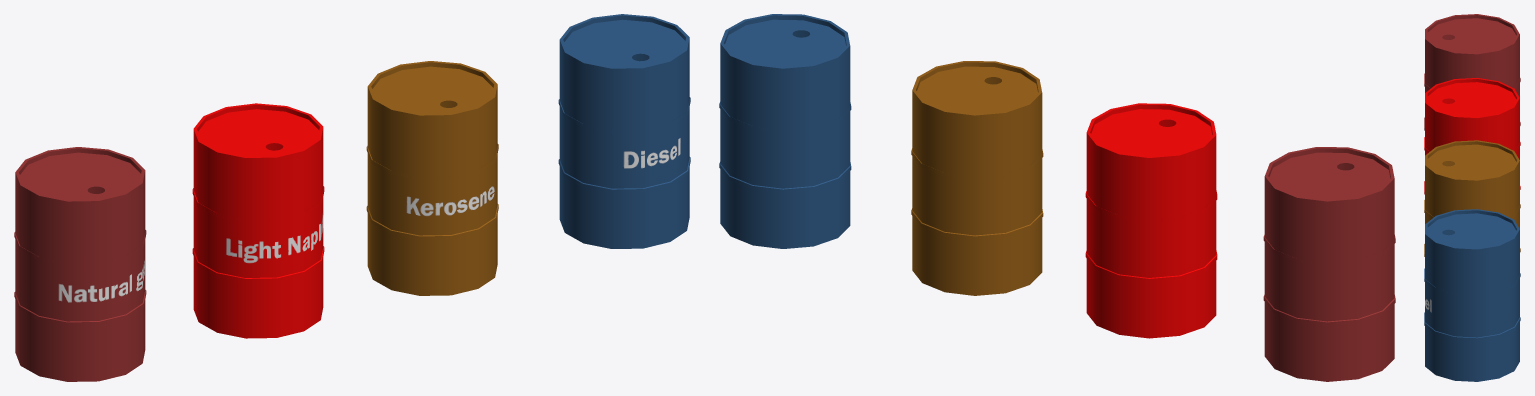
File: gases.fbx
3 views of the same model, side by side, from view 1: azimuth 30°, elevation 25°; view 2: azimuth 150°, elevation 25°; view 3: azimuth 270°, elevation 25° (orthographic). The views are drawn at different scales.
Visible parts, largest first — view 1: light_naptha, natural_gas, diesel, kerosene; view 2: light_naptha, natural_gas, diesel, kerosene; view 3: diesel, kerosene, natural_gas, light_naptha.
Boxes of the visible parts, x1,y1,x2,y2 form: light_naptha: [192, 103, 324, 338]; natural_gas: [14, 147, 146, 381]; diesel: [558, 14, 690, 248]; kerosene: [366, 61, 498, 295]; light_naptha: [1085, 103, 1217, 338]; natural_gas: [1263, 147, 1395, 381]; diesel: [719, 14, 851, 248]; kerosene: [911, 61, 1043, 295]; diesel: [1424, 209, 1520, 381]; kerosene: [1424, 140, 1520, 256]; natural_gas: [1424, 14, 1520, 130]; light_naptha: [1424, 78, 1520, 194].
Bounding box in the file's own units: 154 × 40.3 × 26.52.
4 materials, 4 textured.
